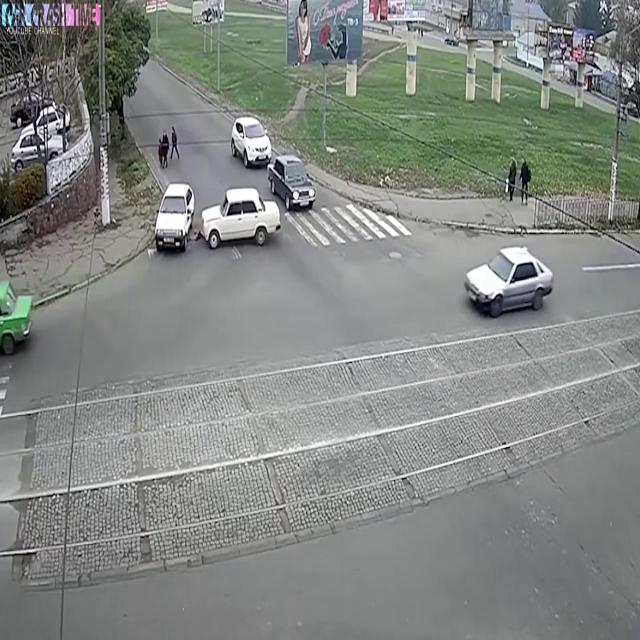accident: (150, 173, 284, 265)
